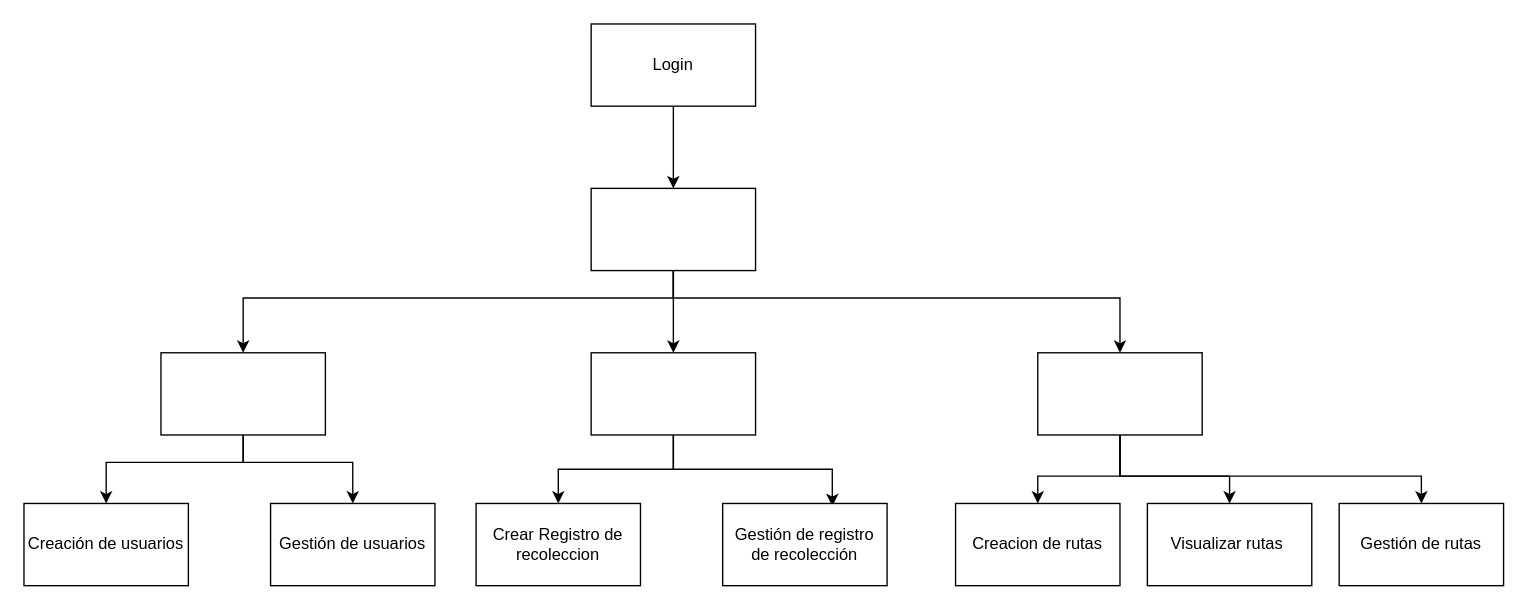
Some shapes in this 1528 by 610 pixel diagram are drawn without their labels. Here are the shapes that lost their labels. From the top down, the centre of each, then its label:
point 673,229: Inicio
point 242,393: Usuarios
point 673,393: Recolección de leche
point 1119,393: Rutas
